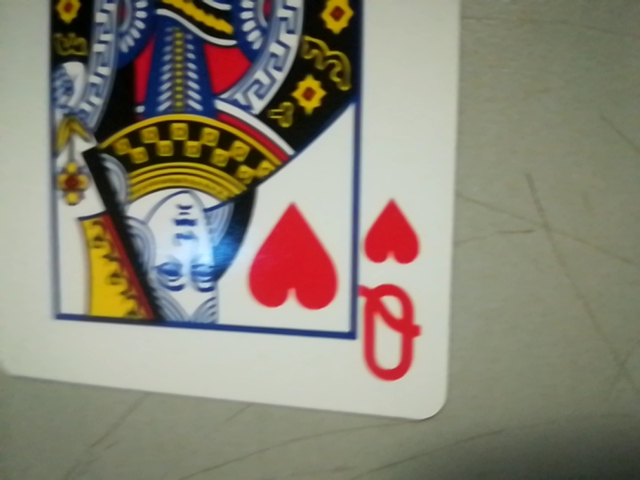hx q: (349, 195, 438, 390)
